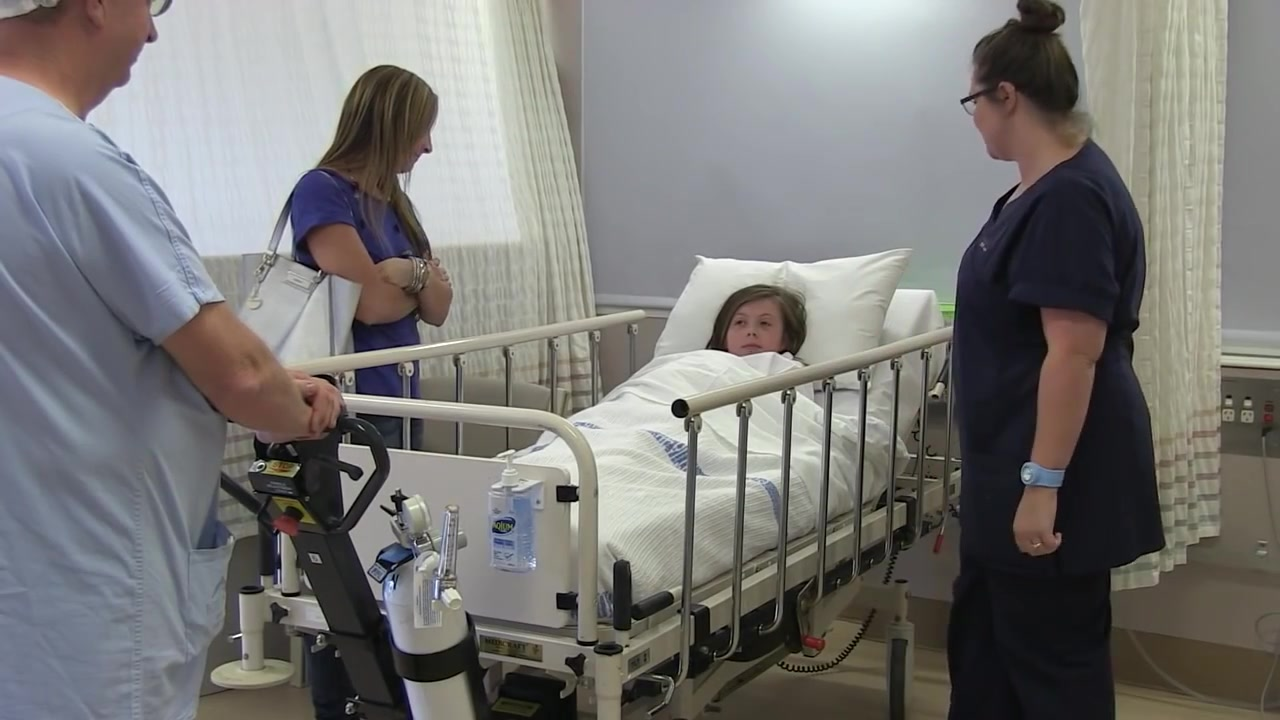bedrail: (669, 324, 964, 690), (288, 308, 648, 455)
curtain: (85, 1, 606, 538), (1076, 1, 1231, 592)
dispenser: (487, 450, 543, 573)
foot_board: (286, 394, 599, 645)
hospital_bed: (210, 248, 961, 719)
patient: (704, 284, 815, 401)
staff: (1, 1, 344, 720), (944, 1, 1165, 720)
visitor: (237, 66, 453, 720)
